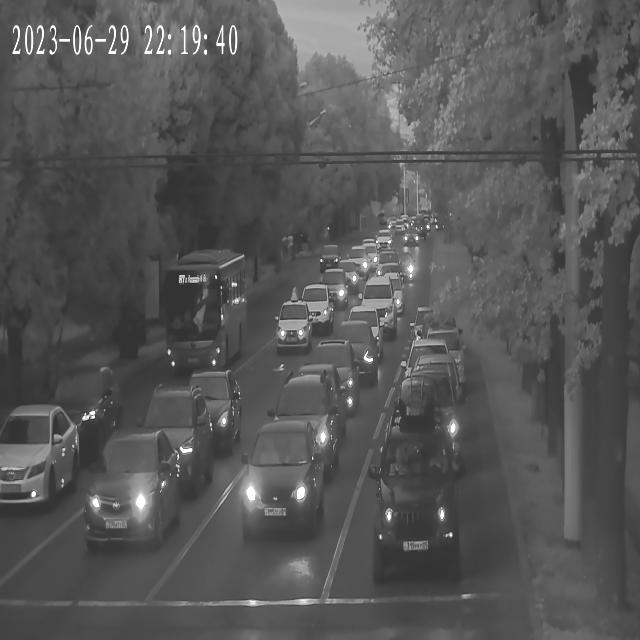Bus: (162, 249, 249, 375)
Car: (368, 427, 464, 586), (79, 432, 180, 551), (236, 427, 323, 536), (126, 388, 214, 492), (0, 405, 79, 515), (383, 372, 464, 474), (264, 380, 336, 481), (172, 368, 242, 447), (285, 364, 351, 421), (402, 357, 463, 414), (298, 342, 358, 397), (321, 325, 378, 382), (399, 338, 457, 390), (274, 299, 320, 351), (418, 329, 468, 376), (348, 285, 395, 335), (166, 338, 226, 376), (288, 285, 333, 330), (368, 272, 407, 320), (341, 305, 386, 344), (312, 270, 350, 311), (328, 263, 362, 294), (374, 265, 404, 292), (383, 255, 414, 281), (340, 251, 370, 277), (348, 244, 376, 270), (318, 247, 341, 269), (356, 240, 377, 256), (403, 232, 420, 250), (374, 232, 392, 249)
